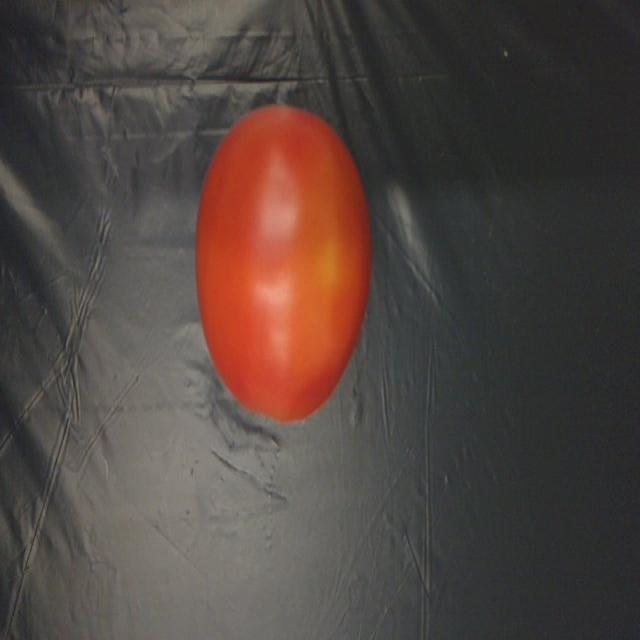sari: (195, 113, 378, 410)
